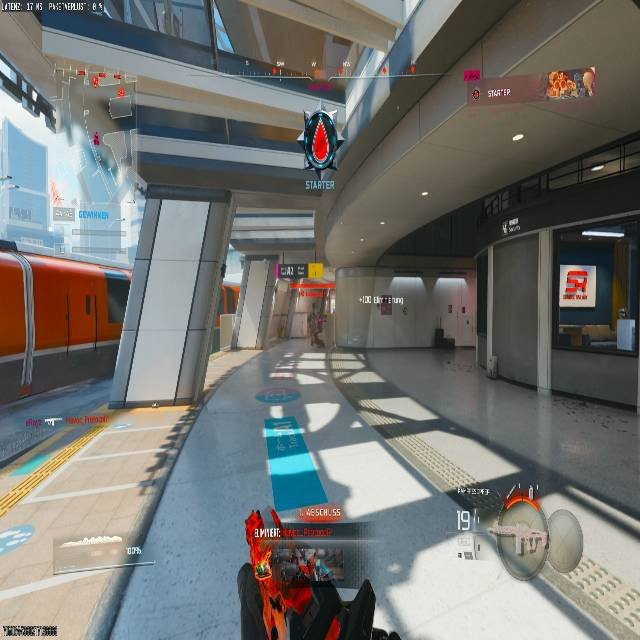player: (300, 105, 344, 188), (309, 308, 327, 347), (582, 68, 595, 96)
